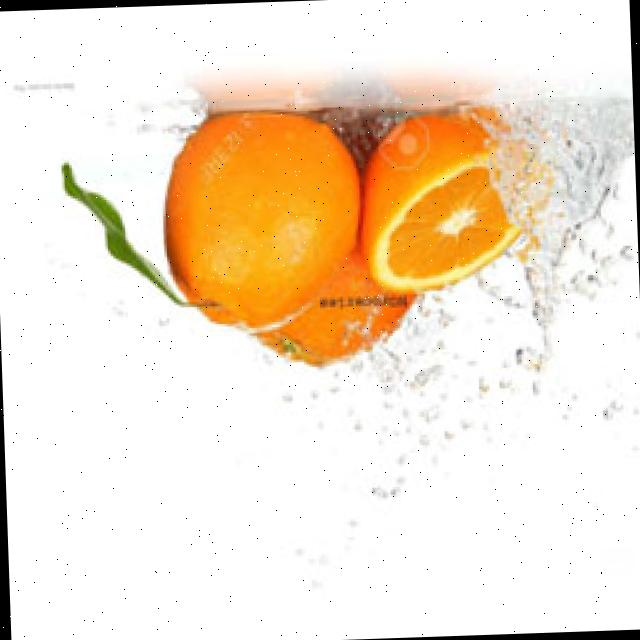Jeruk: (159, 108, 366, 336), (356, 105, 547, 298), (250, 245, 422, 374)
